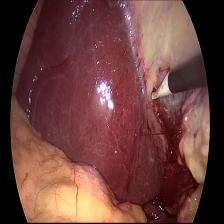Hook: (148, 68, 173, 103)
